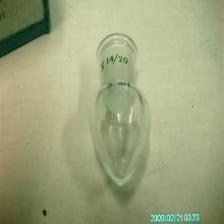Pear shaped flask: (85, 39, 154, 188)
